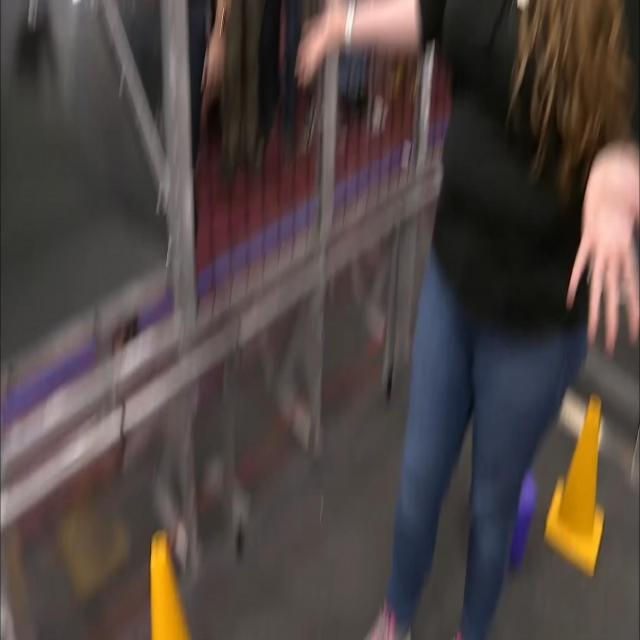frc_cone: (548, 394, 604, 574), (140, 527, 196, 640)
frc_cube: (510, 472, 533, 555)
